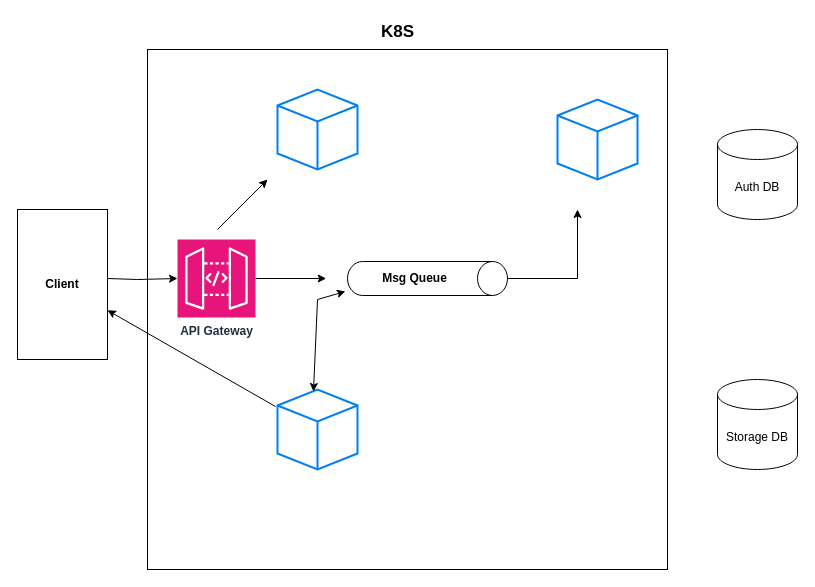
Image size: 815x587. Some labels were removed from this diagram. The shapes that lost their labels are listed below. From the top down, each one's centre as x and y in pixels, then its label:
At (317,129): "Auth Service".
At (597,139): "video to mp3 service".
At (317,429): "Notification Service".
